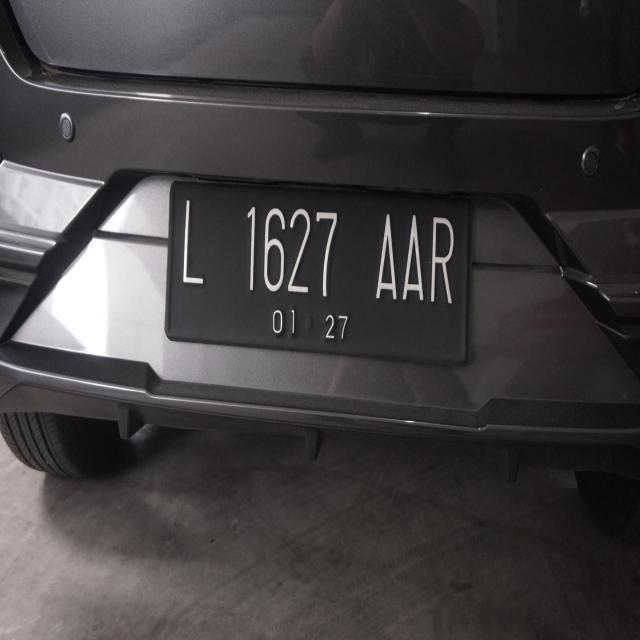1: (237, 198, 262, 298)
2: (282, 196, 315, 300)
6: (260, 192, 289, 302)
7: (310, 195, 340, 303)
A: (366, 206, 402, 306), (396, 206, 429, 306)
L: (170, 191, 212, 303)
R: (425, 202, 458, 312)
